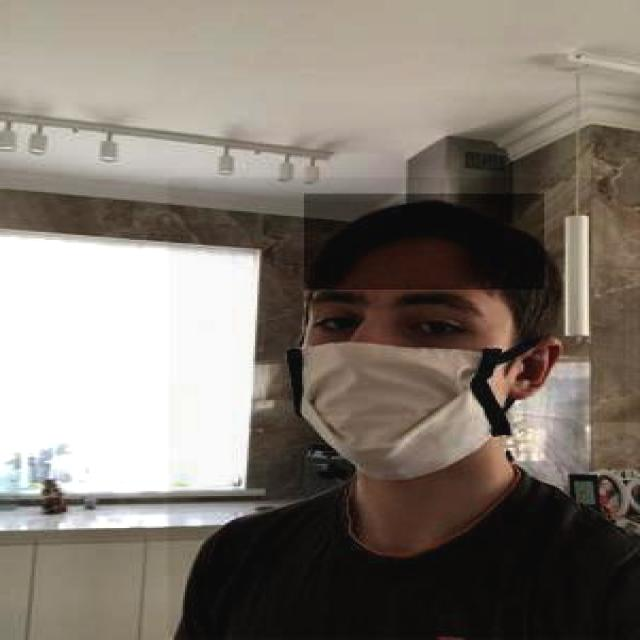face_mask: (289, 280, 506, 480)
head_nohelmet: (304, 193, 544, 290)
person: (166, 177, 625, 638)
